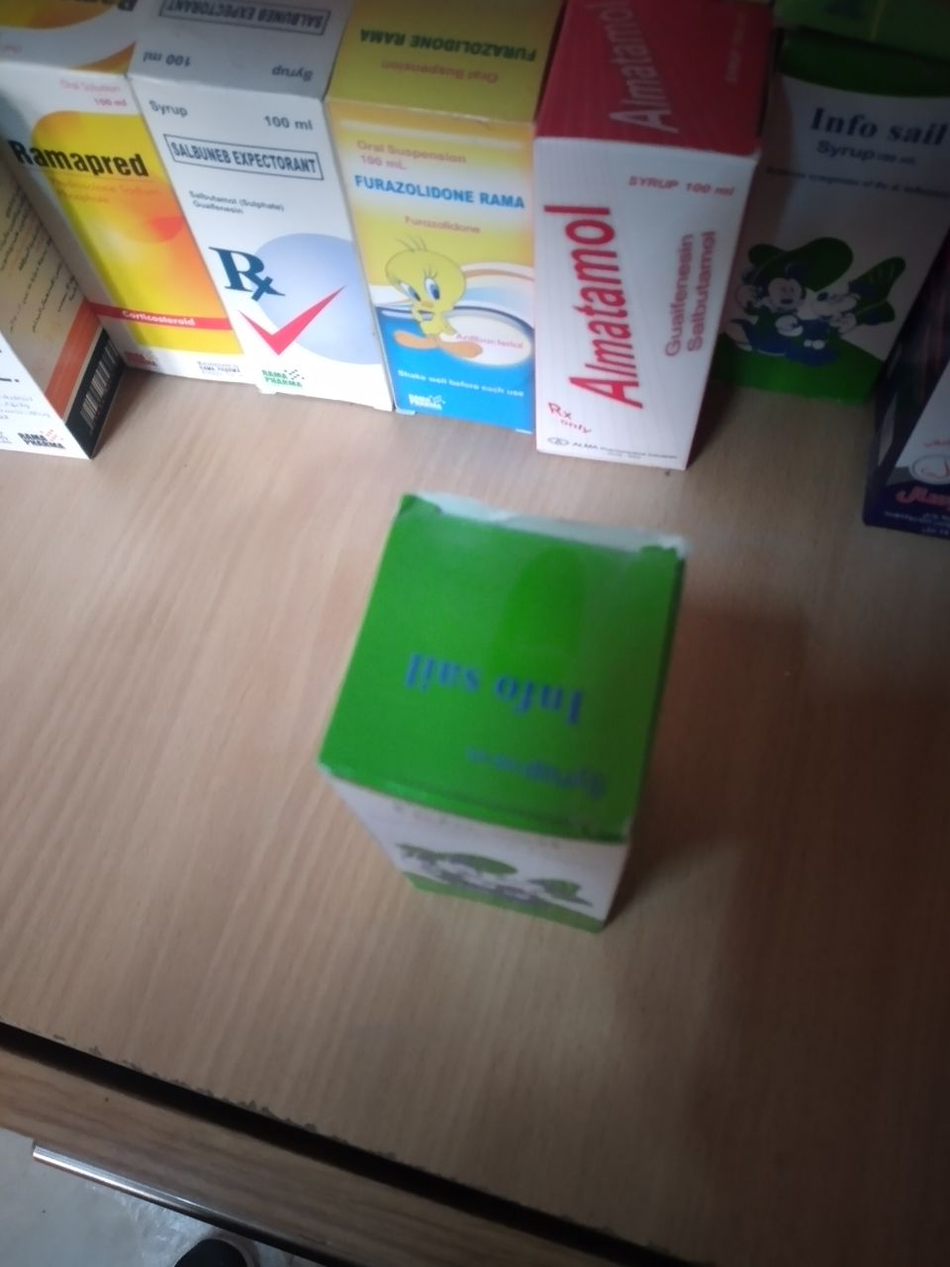Medicine: (303, 455, 699, 1006)
